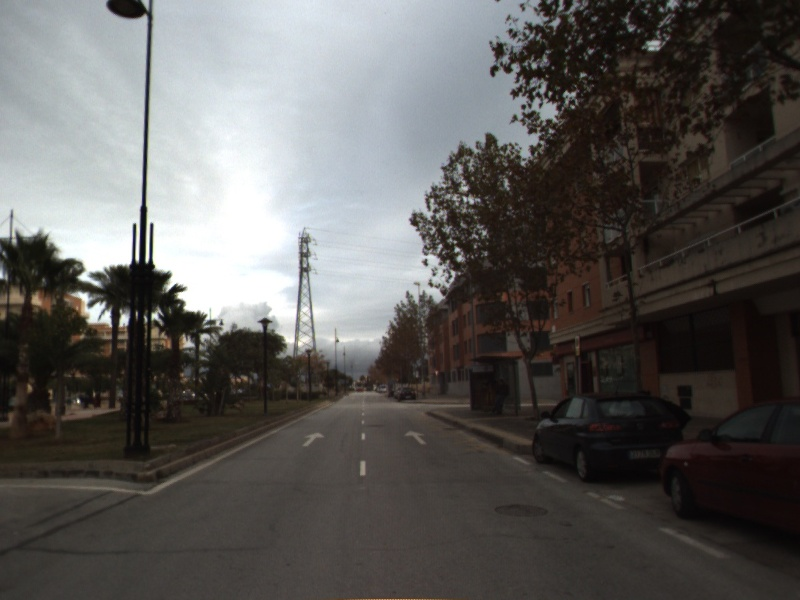STRAIGHT: (402, 428, 430, 446), (300, 430, 326, 448)
